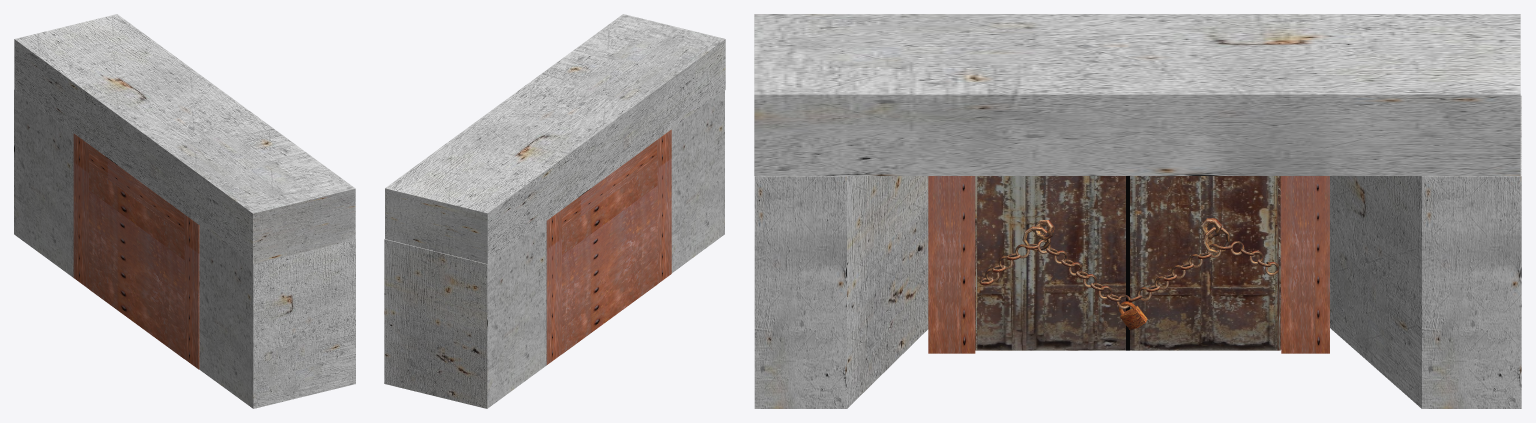
The model's file is Compuerta COMO VA.fbx.
3 views of the same model, side by side, from view 1: azimuth 30°, elevation 25°; view 2: azimuth 150°, elevation 25°; view 3: azimuth 270°, elevation 25° (orthographic). The views are drawn at different scales.
Parts seen in each view (by area): view 1: pasted__pasted__pasted__pCube3, pasted__pasted__pCube3 (×2), pasted__pCube3 (×3), pCube3; view 2: pasted__pasted__pasted__pCube3, pasted__pCube3 (×3), pasted__pasted__pCube3 (×2), pCube3; view 3: pasted__pasted__pasted__pCube3, pCube1, pasted__pCube3 (×2), pasted__pasted__pCube3, pCube3, MASH1_ReproMesh.
Boxes of the visible parts, x1,y1,x2,y2 form: pasted__pasted__pasted__pCube3: (14, 14, 355, 264); pasted__pasted__pCube3 (×2): (89, 144, 355, 408); pasted__pCube3 (×3): (14, 90, 199, 369); pCube3: (73, 133, 88, 288); pasted__pasted__pasted__pCube3: (385, 14, 725, 263); pasted__pCube3 (×3): (384, 129, 671, 408); pasted__pasted__pCube3 (×2): (562, 90, 724, 272); pCube3: (546, 210, 561, 364); pasted__pasted__pasted__pCube3: (754, 14, 1520, 175); pCube1: (975, 176, 1280, 350); pasted__pCube3 (×2): (928, 95, 1521, 408); pasted__pasted__pCube3: (754, 176, 928, 408); pCube3: (1281, 176, 1329, 353); MASH1_ReproMesh: (979, 240, 1279, 308).
Bounding box in the file's own units: 11.05 × 20.01 × 44.29.
Materials: 9 (6 with a texture image).
